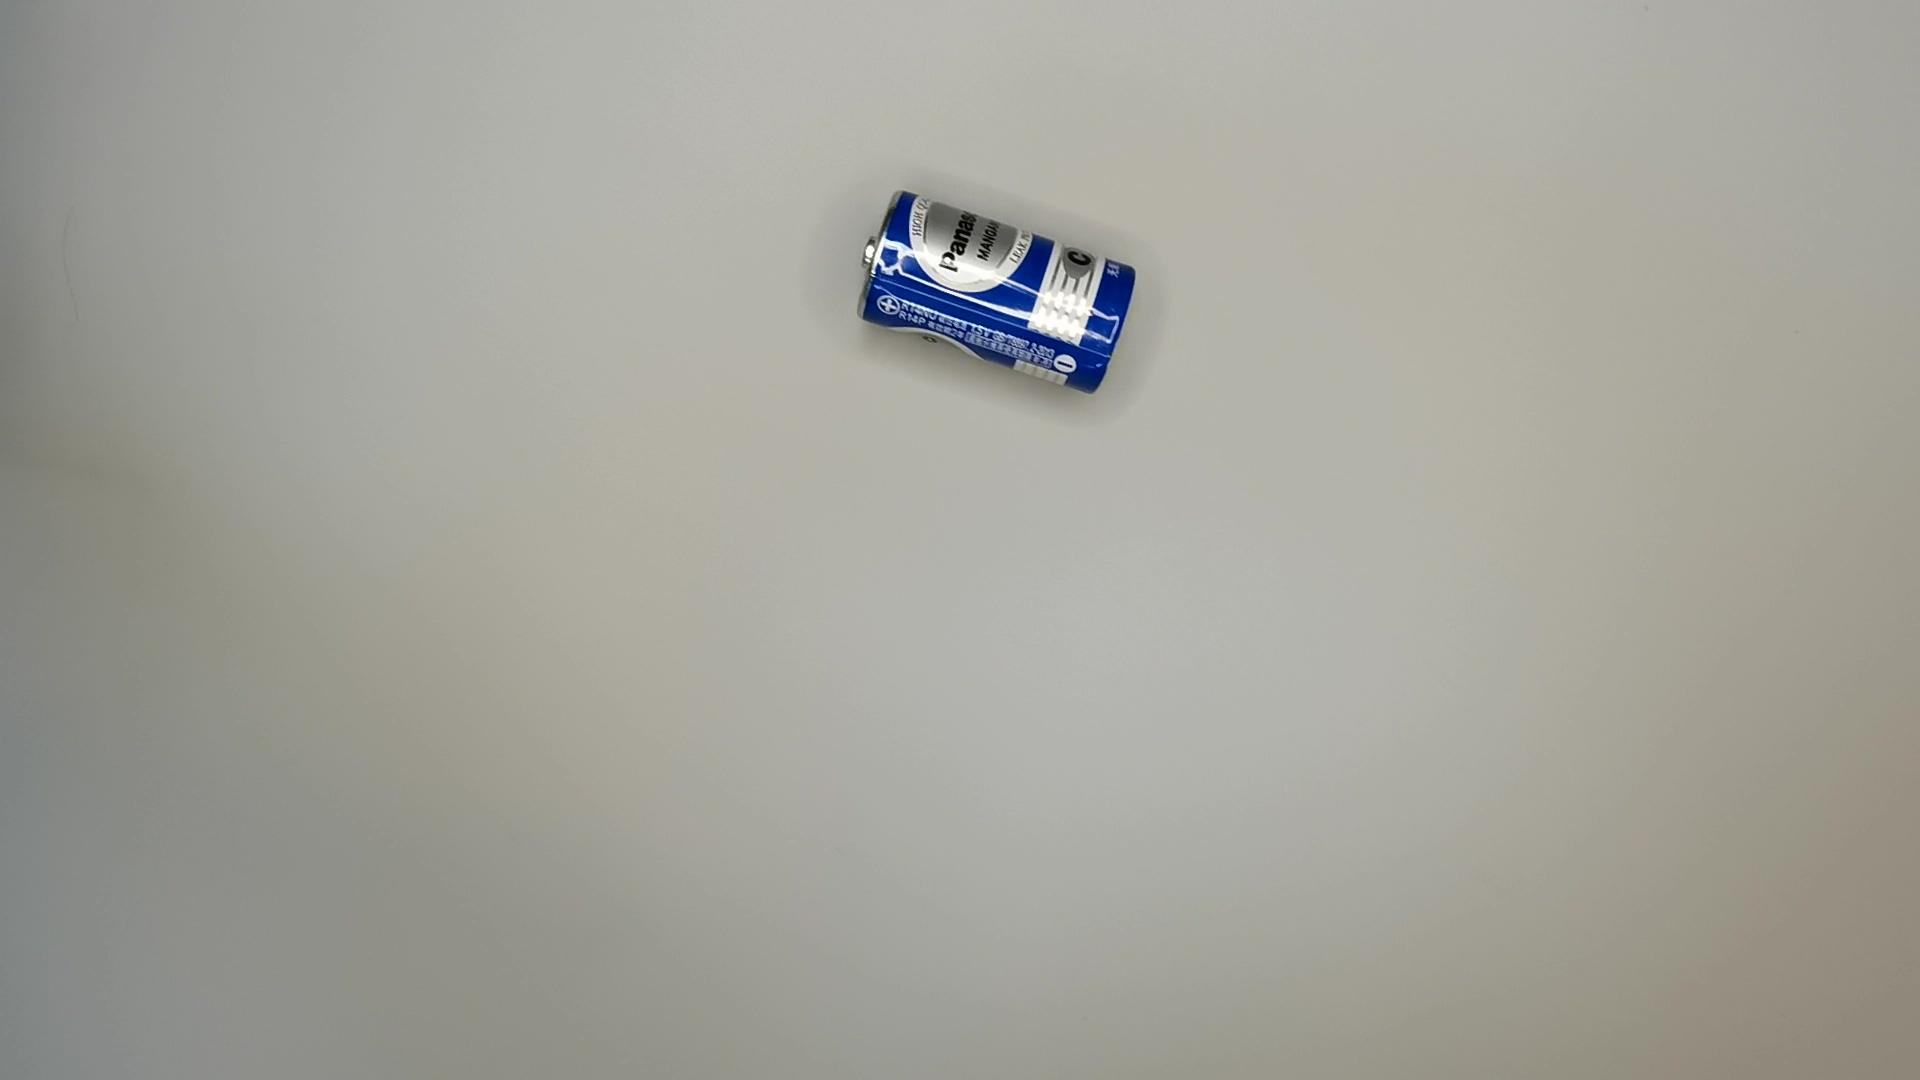battery: (847, 183, 1145, 398)
